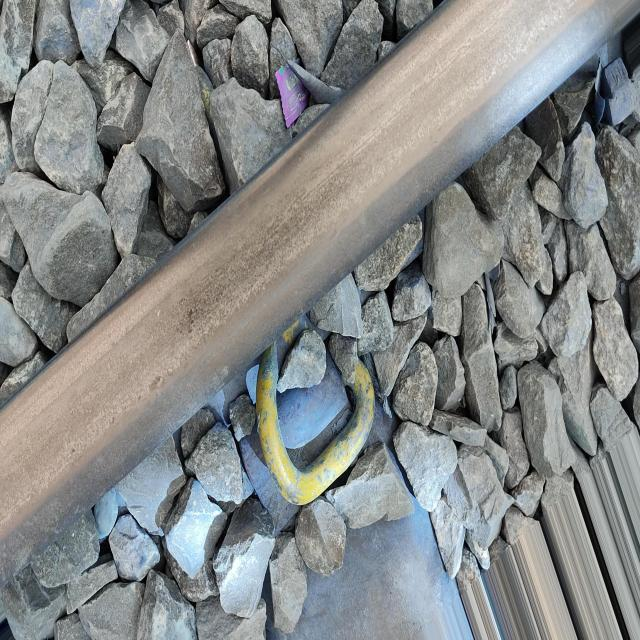broken_rail_medium: (148, 372, 162, 394), (186, 306, 195, 337)
